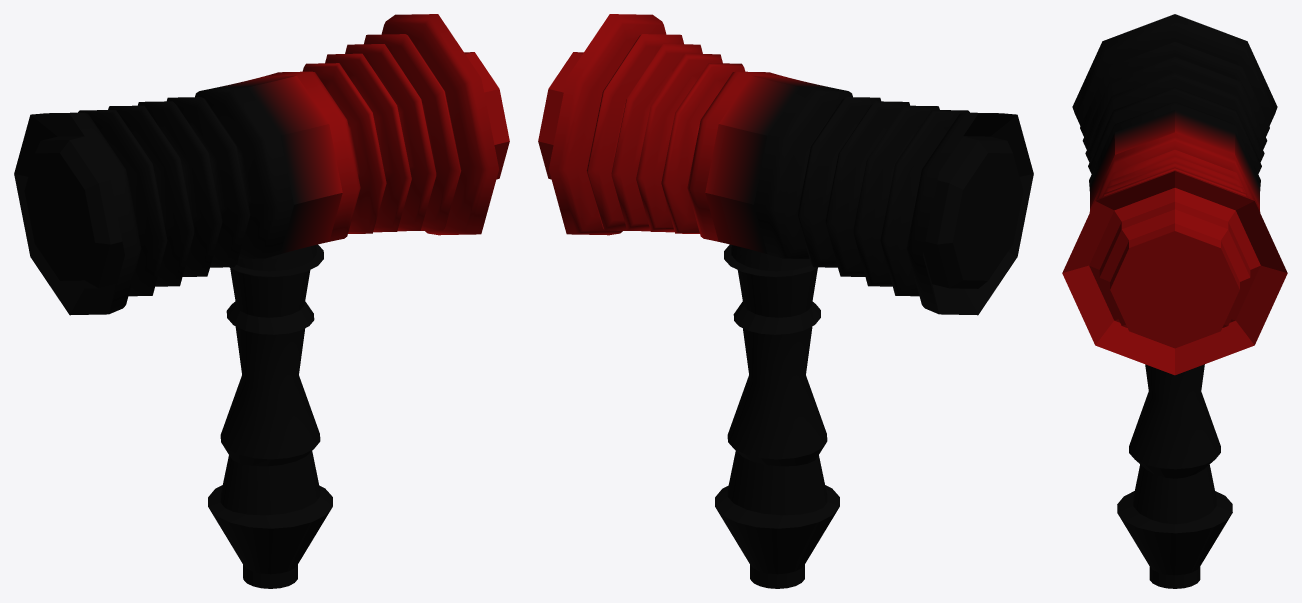
File: martelo.FBX
3 views of the same model, side by side, from view 1: azimuth 30°, elevation 25°; view 2: azimuth 150°, elevation 25°; view 3: azimuth 270°, elevation 25° (orthographic). The views are drawn at different scales.
Parts seen in each view (by area): view 1: Hose001; view 2: Hose001; view 3: Hose001.
Part boxes in pixels (x1,y1,x2,y2): Hose001: (14, 14, 509, 588); Hose001: (538, 14, 1033, 588); Hose001: (1062, 14, 1287, 588).
Size of the model in its own units: 136 by 164 by 69.49.
